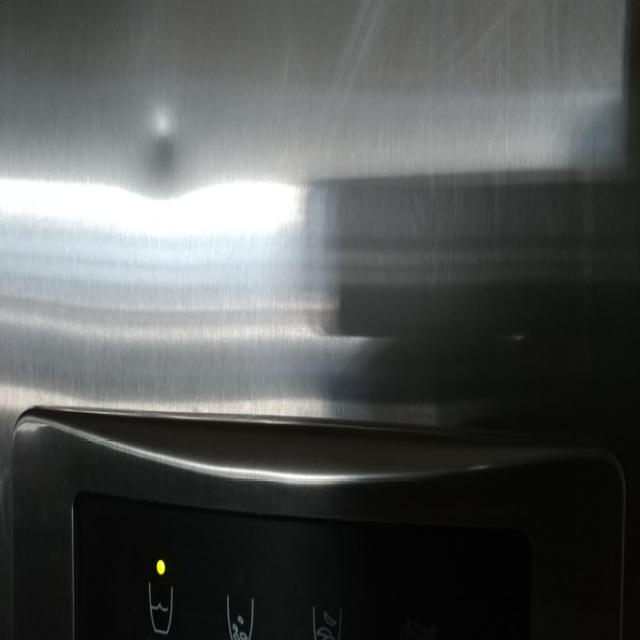dents: (130, 92, 201, 208)
